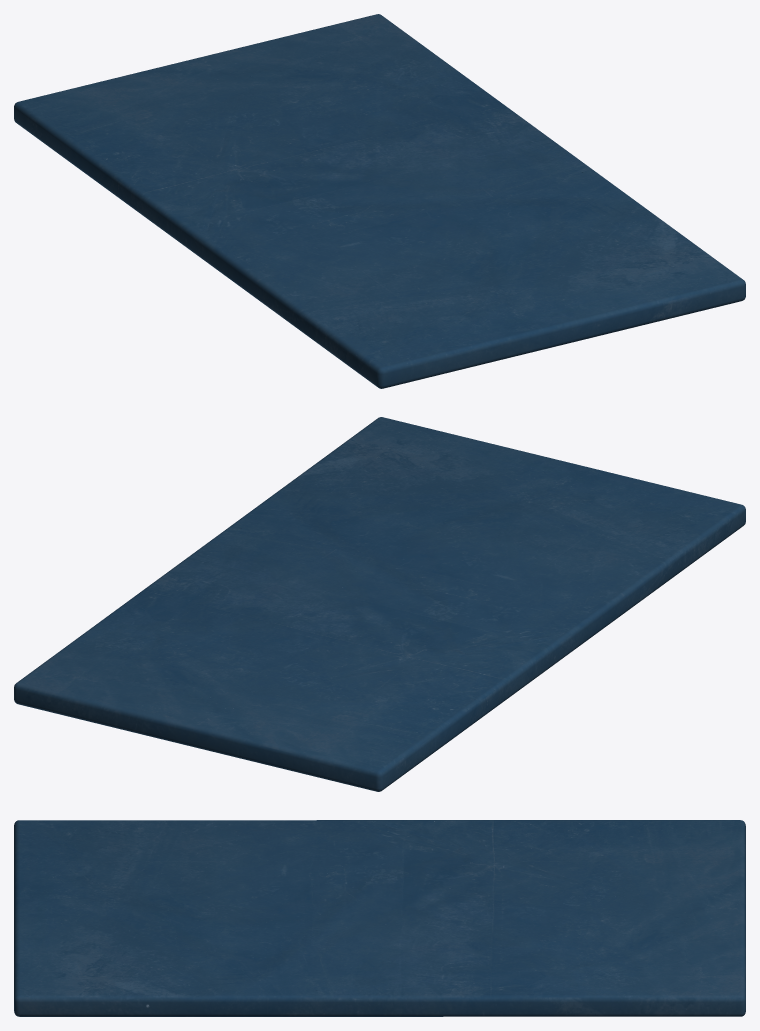
File: prop_gym_mat.fbx
3 renders of one model, top to bottom at view 1: azimuth 30°, elevation 25°; view 2: azimuth 150°, elevation 25°; view 3: azimuth 270°, elevation 25°, orthographic.
Parts seen in each view (by area): view 1: Soft_matt; view 2: Soft_matt; view 3: Soft_matt.
Part boxes in pixels (box(x1,y1,x2,y2)): Soft_matt: box(14, 14, 745, 388); Soft_matt: box(14, 417, 745, 791); Soft_matt: box(14, 820, 745, 1016).
Size of the model in its own units: 92.24 by 5.14 by 159.
